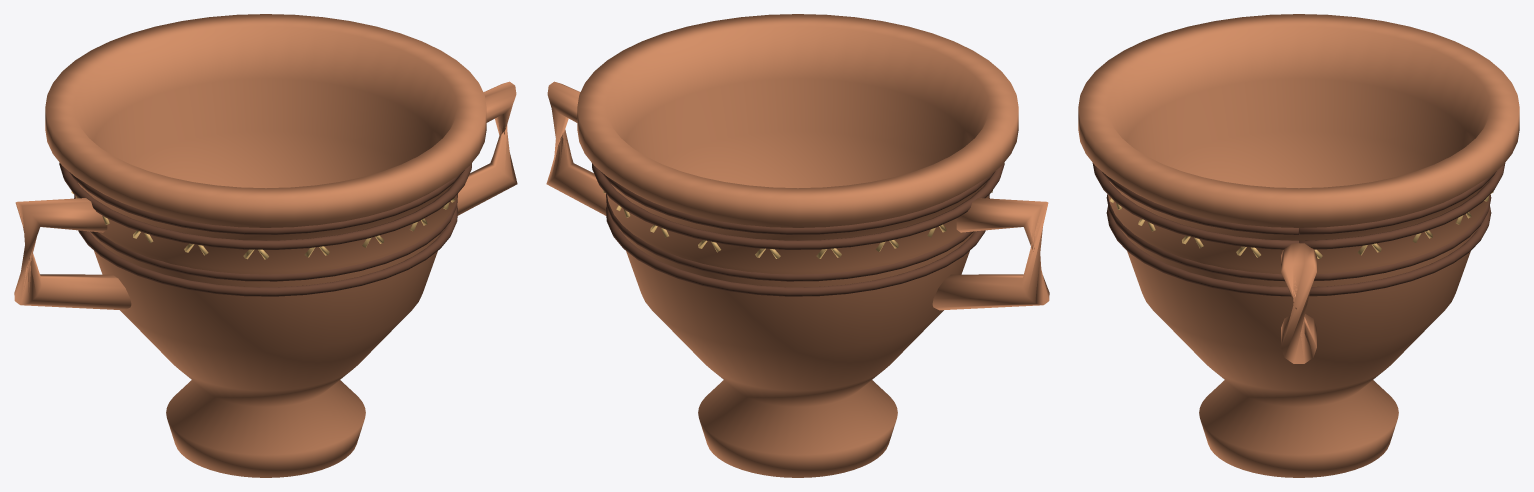
Rendered from krater.glb.
3 renders of one model, left to right at view 1: azimuth 30°, elevation 25°; view 2: azimuth 150°, elevation 25°; view 3: azimuth 270°, elevation 25°, orthographic.
Parts seen in each view (by area): view 1: krater__clay, krater__slip, krater__ochre; view 2: krater__clay, krater__slip, krater__ochre; view 3: krater__clay, krater__slip, krater__ochre.
Boxes of the visible parts, box(x1,y1,x2,y2) form: krater__clay: box(14, 14, 517, 477); krater__slip: box(59, 162, 471, 296); krater__ochre: box(71, 191, 455, 259); krater__clay: box(546, 14, 1049, 477); krater__slip: box(592, 162, 1004, 296); krater__ochre: box(603, 190, 992, 258); krater__clay: box(1078, 14, 1519, 477); krater__slip: box(1092, 163, 1505, 296); krater__ochre: box(1110, 191, 1493, 258).
Bounding box in the file's own units: 1.38 × 0.9 × 1.06.
